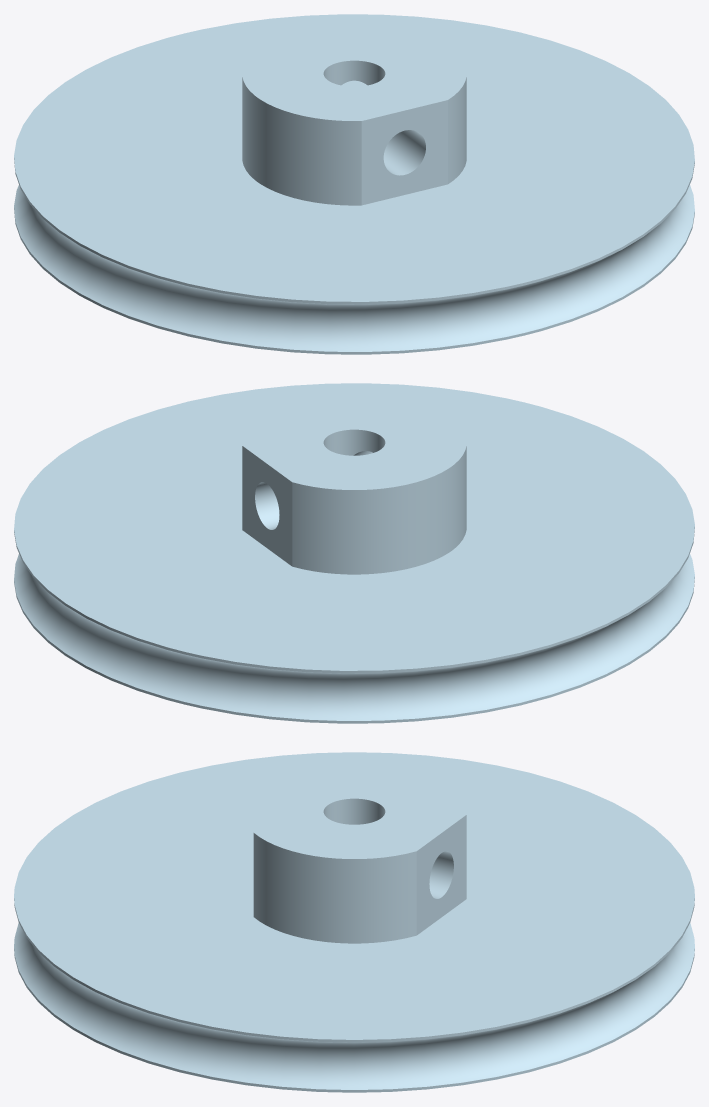
Rendered from Roue old PAMI.glb.
The picture shows the model from 3 angles, top to bottom: view 1: azimuth 30°, elevation 25°; view 2: azimuth 150°, elevation 25°; view 3: azimuth 270°, elevation 25°; orthographic projection.
Parts seen in each view (by area): view 1: Part 1; view 2: Part 1; view 3: Part 1.
Boxes of the visible parts, x1,y1,x2,y2 form: Part 1: (14, 14, 694, 354); Part 1: (14, 383, 694, 723); Part 1: (14, 752, 694, 1092).
Size of the model in its own units: 0.0585 by 0.013 by 0.0585.
